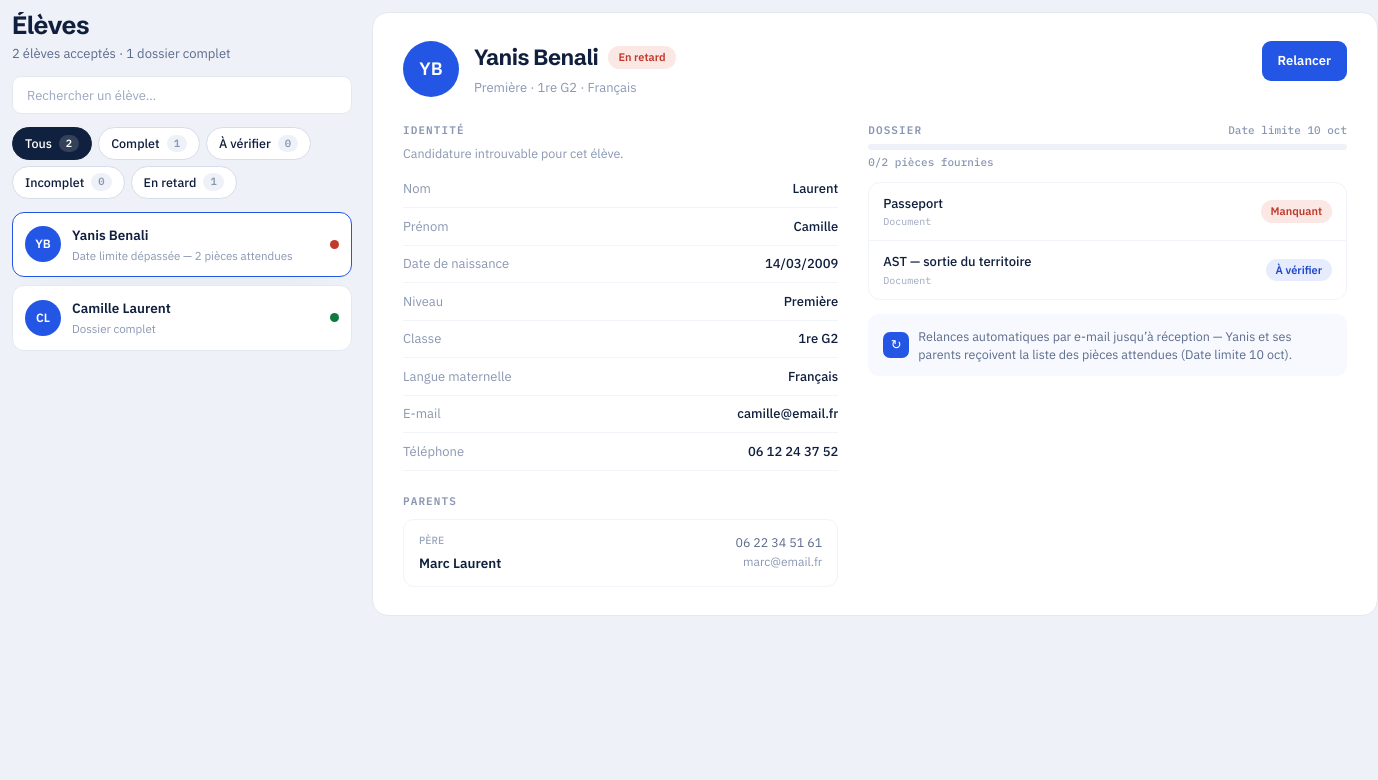
Test case: StudentsView › chip filter narrows the list; empty filter shows the demo copy
Click the button "À vérifier 0" at (258, 143), box [206,127,311,160]
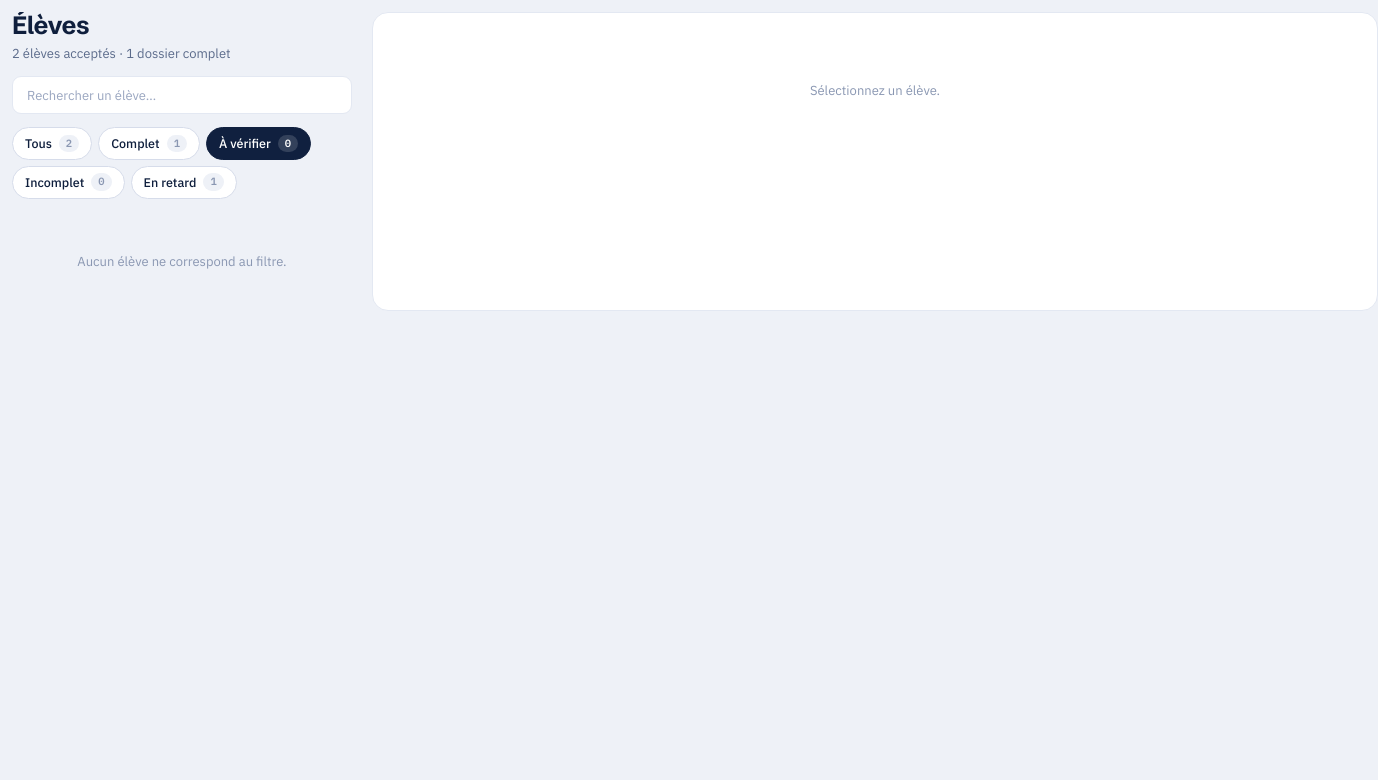
Now the text "Aucun élève ne correspond au filtre." is shown, box [77,252,287,270]
